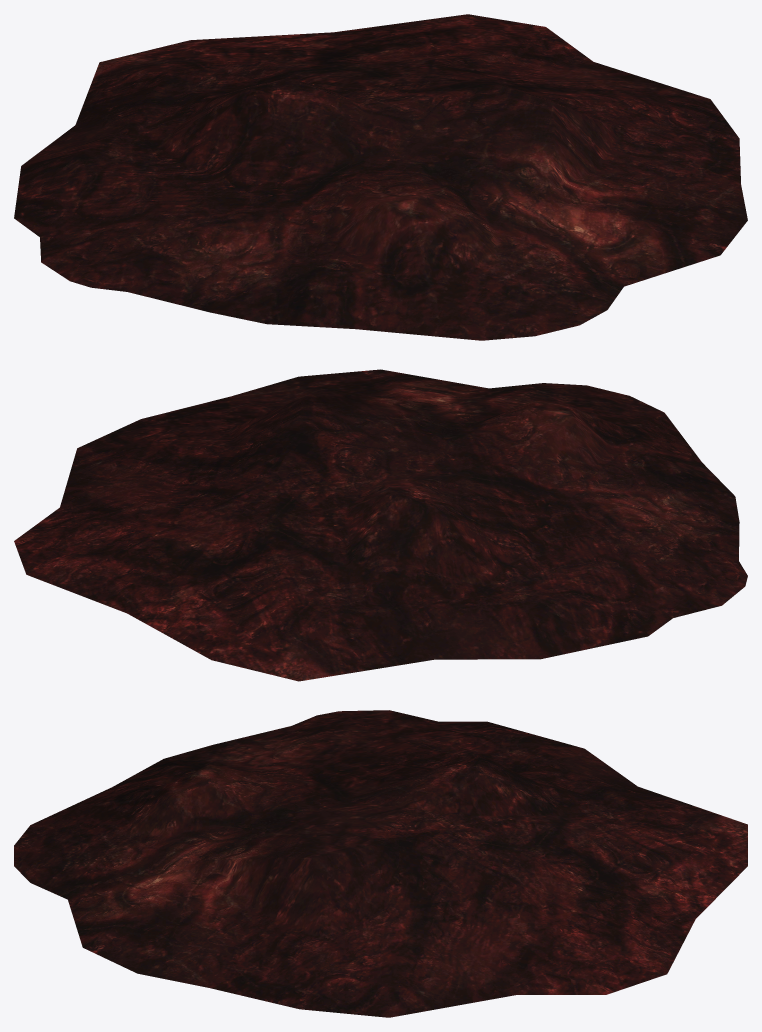
The model's file is torn_dried_flesh_2.dae.
3 renders of one model, top to bottom at view 1: azimuth 30°, elevation 25°; view 2: azimuth 150°, elevation 25°; view 3: azimuth 270°, elevation 25°, orthographic. The views are drawn at different scales.
Visible parts, largest first — view 1: Mesh; view 2: Mesh; view 3: Mesh.
Boxes of the visible parts, x1,y1,x2,y2 form: Mesh: (14,14,747,340); Mesh: (14,369,747,681); Mesh: (14,710,747,1017).
Bounding box in the file's own units: 0.4696 × 0.052 × 0.4734.
